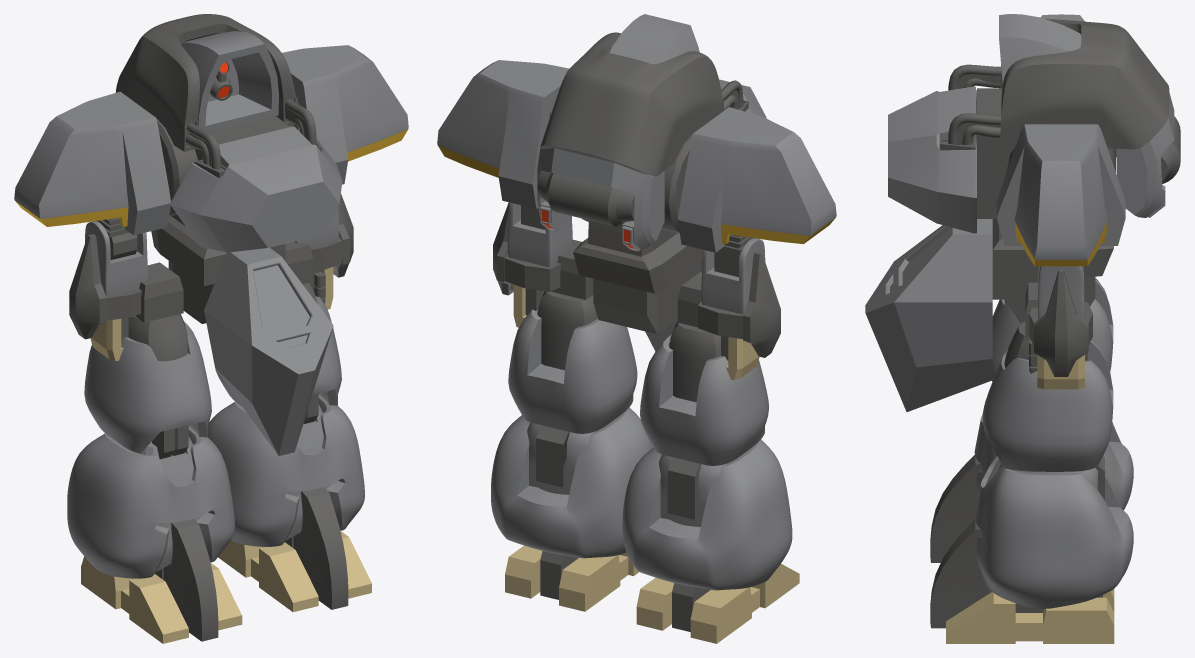
Rendered from ピーエイス_1.fbx.
3 views of the same model, side by side, from view 1: azimuth 30°, elevation 25°; view 2: azimuth 150°, elevation 25°; view 3: azimuth 270°, elevation 25° (orthographic). The views are drawn at different scales.
Visible parts, largest first — view 1: 平面.008, 平面.005, 平面.006, 平面.002, 平面.007, 平面.010, 平面.009, 平面.001, 平面, 平面.003, 平面.014, 立方体.002 (+9 smaller); view 2: 平面.008, 平面.005, 平面.007, 平面.001, 平面.010, 平面.003, 立方体.001, 平面.004, 立方体.006, 平面.014, 平面.013, 円柱 (+8 smaller); view 3: 平面.008, 平面.006, 平面.005, 平面.001, 平面.007, 平面.002, 平面.010, 平面.009, 平面.003, 平面.014, 平面.004, 平面 (+10 smaller).
Boxes of the visible parts, x1,y1,x2,y2 form: 平面.008: [67, 395, 364, 578]; 平面.005: [14, 45, 408, 235]; 平面.006: [204, 247, 333, 455]; 平面.002: [170, 126, 342, 252]; 平面.007: [84, 296, 341, 453]; 平面.010: [81, 531, 371, 643]; 平面.009: [163, 487, 348, 641]; 平面.001: [115, 14, 297, 151]; 平面: [181, 31, 278, 132]; 平面.003: [151, 216, 285, 323]; 平面.014: [69, 194, 353, 339]; 立方体.002: [135, 242, 313, 322]; 平面.008: [491, 407, 792, 590]; 平面.005: [437, 60, 836, 252]; 平面.007: [508, 309, 768, 465]; 平面.001: [540, 32, 724, 176]; 平面.010: [505, 545, 799, 643]; 平面.003: [573, 220, 702, 334]; 立方体.001: [538, 291, 720, 402]; 平面.004: [537, 148, 664, 251]; 立方体.006: [507, 202, 765, 314]; 平面.014: [493, 202, 780, 357]; 平面.013: [536, 425, 700, 522]; 円柱: [537, 171, 634, 226]; 平面.008: [974, 415, 1133, 608]; 平面.006: [865, 219, 992, 411]; 平面.005: [996, 14, 1125, 266]; 平面.001: [1000, 19, 1169, 149]; 平面.007: [982, 278, 1113, 471]; 平面.002: [888, 86, 976, 233]; 平面.010: [946, 589, 1114, 643]; 平面.009: [930, 455, 991, 628]; 平面.003: [992, 219, 1113, 323]; 平面.014: [1034, 269, 1088, 376]; 平面.004: [1117, 92, 1174, 217]; 平面: [999, 14, 1081, 84].
Bounding box in the file's own units: 208 × 297 × 150.
